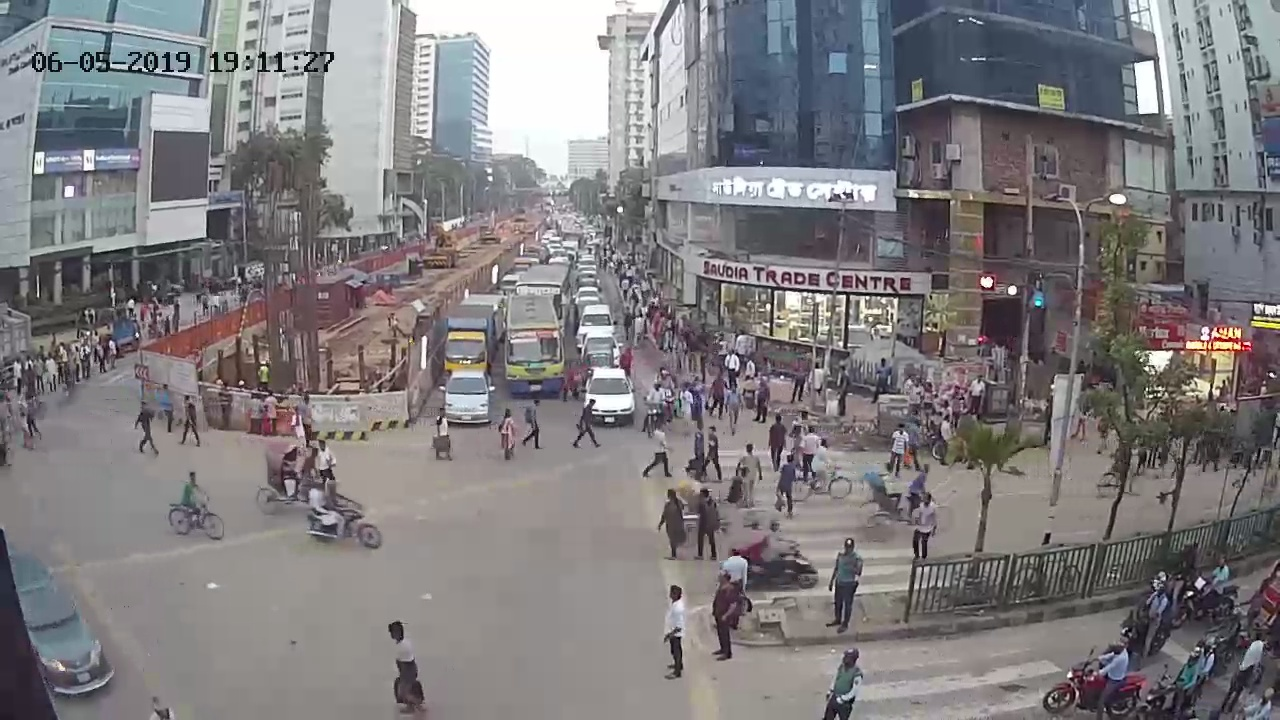fast_in: (1, 550, 119, 698), (295, 472, 407, 567), (1037, 629, 1148, 720), (497, 296, 566, 393), (1118, 647, 1209, 717), (1166, 553, 1240, 624), (1113, 583, 1178, 658), (426, 367, 494, 428), (440, 303, 494, 371), (1189, 602, 1247, 664), (575, 366, 635, 424), (639, 385, 673, 434), (515, 265, 571, 294), (576, 303, 616, 334), (580, 338, 617, 366), (573, 296, 602, 304)
slow_in: (152, 468, 232, 553), (259, 431, 341, 512), (1246, 557, 1280, 650)
